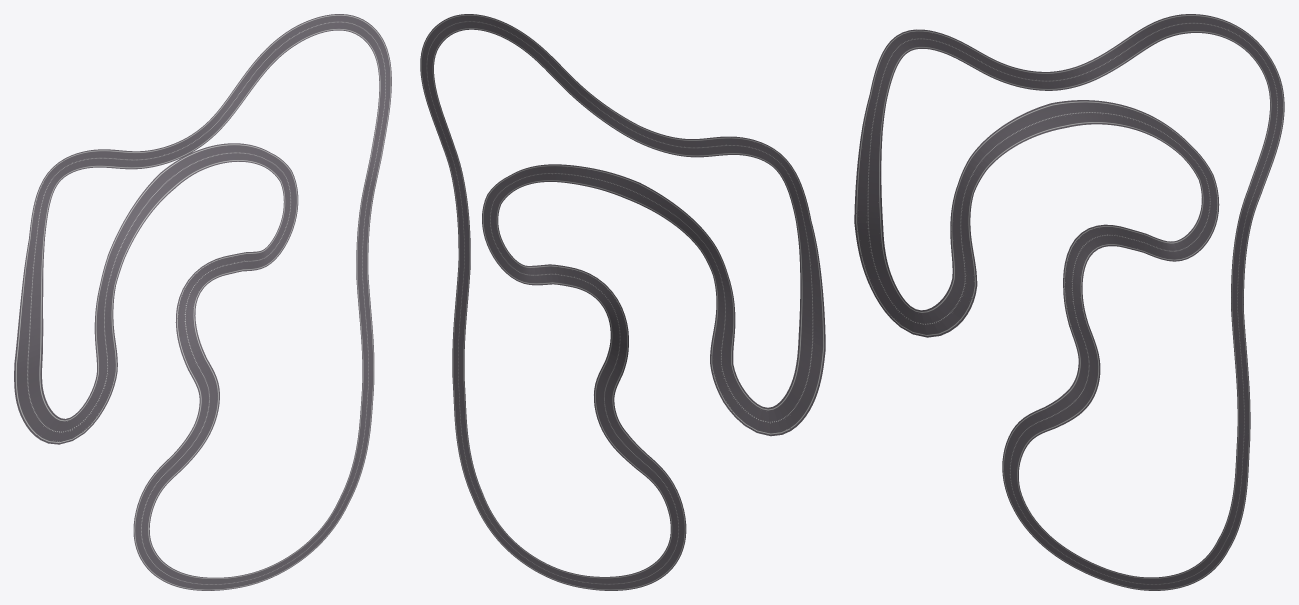
Rendered from s7_llr_fullroad.fbx.
The picture shows the model from 3 angles, left to right: view 1: azimuth 30°, elevation 25°; view 2: azimuth 150°, elevation 25°; view 3: azimuth 330°, elevation 25°; orthographic projection. The views are drawn at different scales.
Parts seen in each view (by area): view 1: Separated Mesh Road; view 2: Separated Mesh Road; view 3: Separated Mesh Road.
Part boxes in pixels (left/top/right/bottom): Separated Mesh Road: left=14, top=14, right=391, bottom=590; Separated Mesh Road: left=420, top=14, right=825, bottom=590; Separated Mesh Road: left=854, top=14, right=1284, bottom=590.
Size of the model in its own units: 480054 by 64795 by 645219.
Materials: 1 (1 with a texture image).
